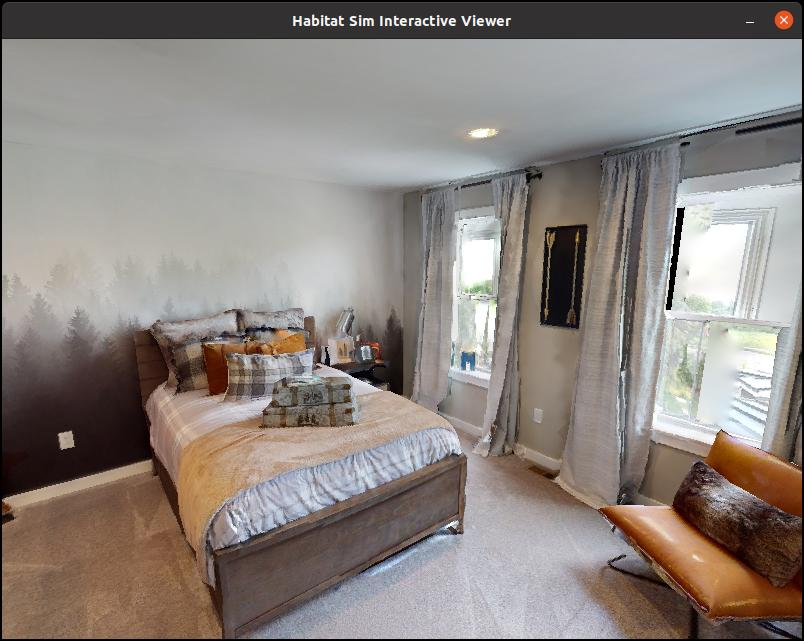bed: (106, 295, 508, 627)
